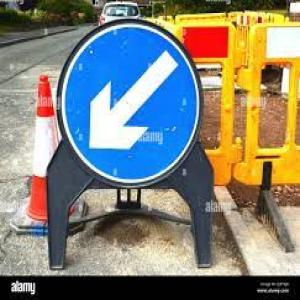keep left: (57, 18, 208, 190)
